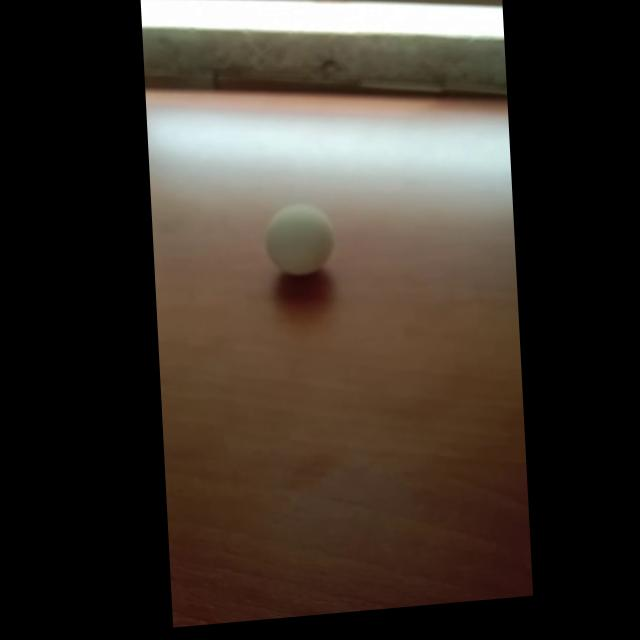white ball: (263, 199, 337, 280)
